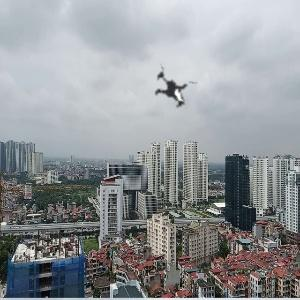drone: (123, 45, 217, 139)
